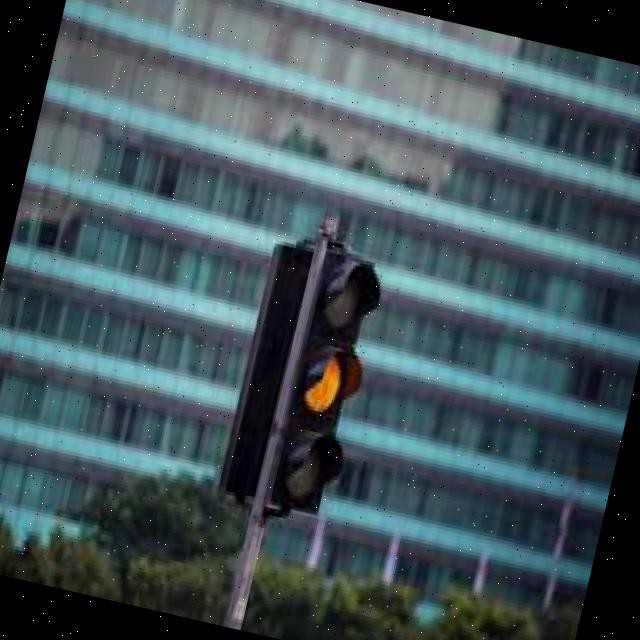yellow_light: (261, 244, 388, 517)
